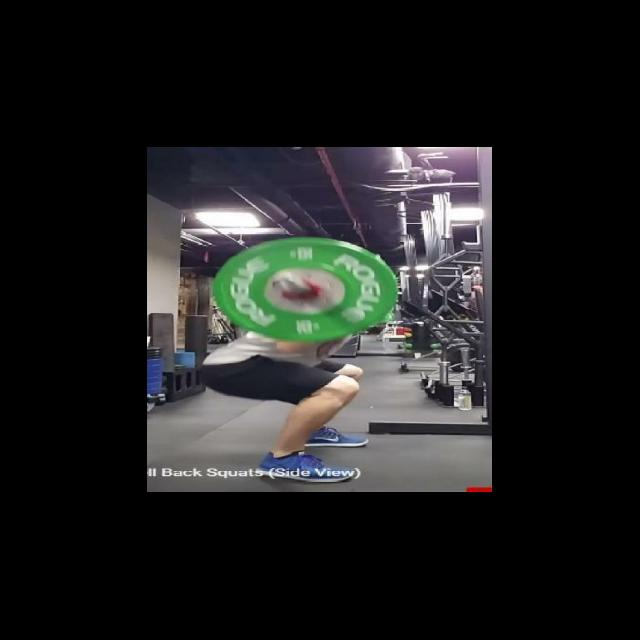barbell: (210, 234, 401, 343)
